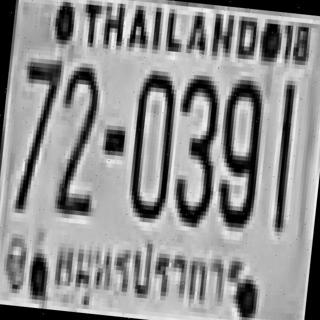N00: (124, 65, 178, 220)
N01: (268, 78, 297, 230)
N02: (51, 63, 103, 214)
N03: (168, 70, 222, 224)
N07: (10, 53, 62, 212), (14, 53, 62, 170)
N09: (212, 74, 264, 225)
P57: (48, 228, 252, 320)
